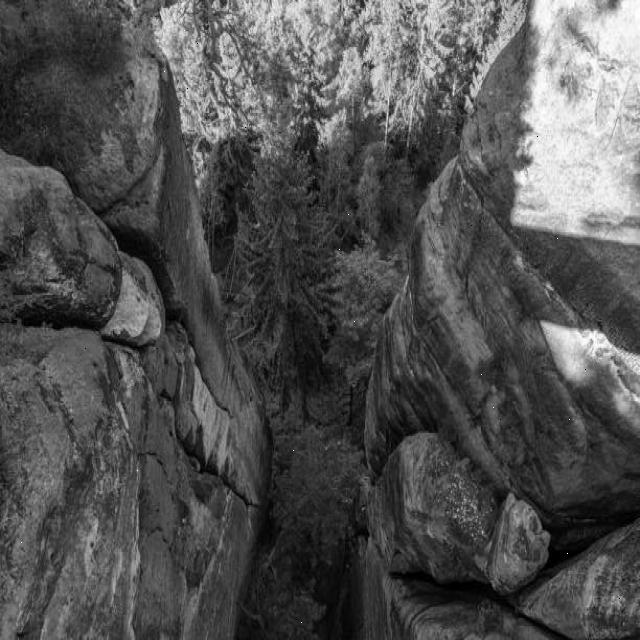Sedimentary: (367, 6, 639, 640), (2, 1, 266, 640)
